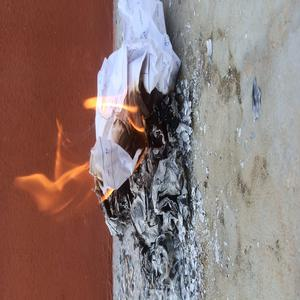fire: (15, 110, 92, 222), (82, 95, 146, 136)
